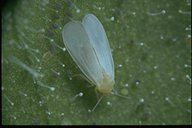whitefly: (61, 13, 133, 111)
